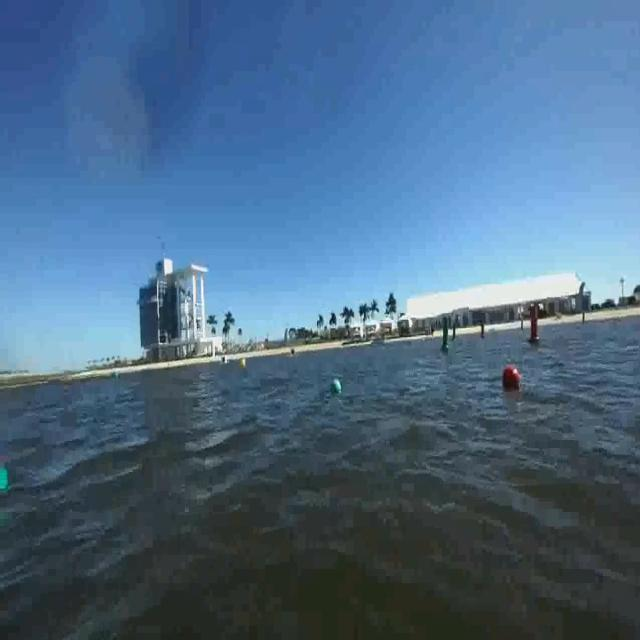green-buoy: (332, 380, 342, 394)
green-column-buoy: (442, 318, 452, 354)
red-buoy: (502, 365, 519, 386)
red-column-buoy: (530, 309, 542, 346)
yellow-buoy: (241, 357, 247, 369)
